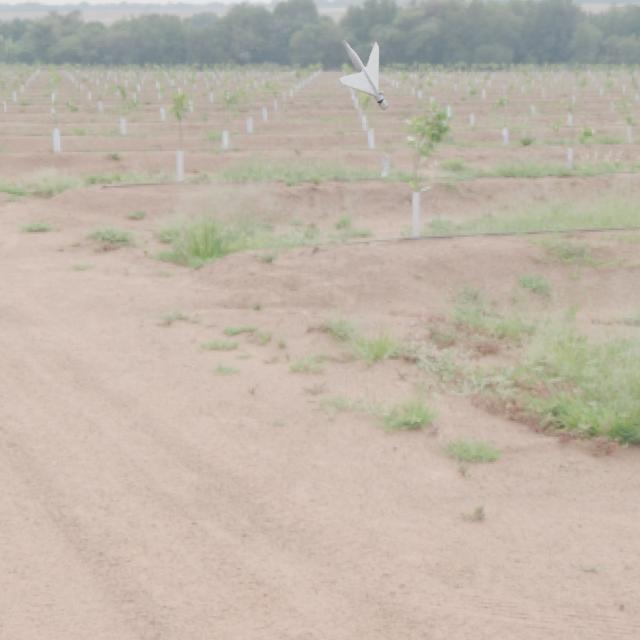Airaplan: (333, 38, 388, 110)
